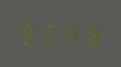four: (60, 20, 80, 47)
nine: (18, 18, 38, 46), (81, 20, 101, 48)
two: (39, 19, 59, 46)
